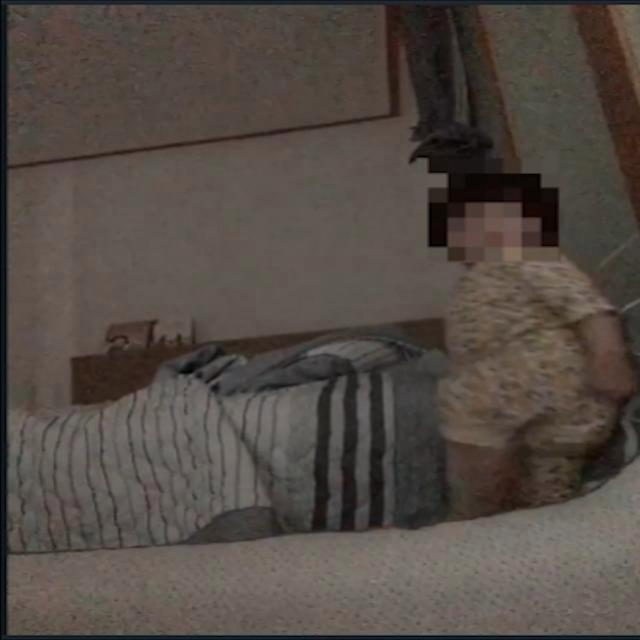child: (425, 177, 630, 530)
